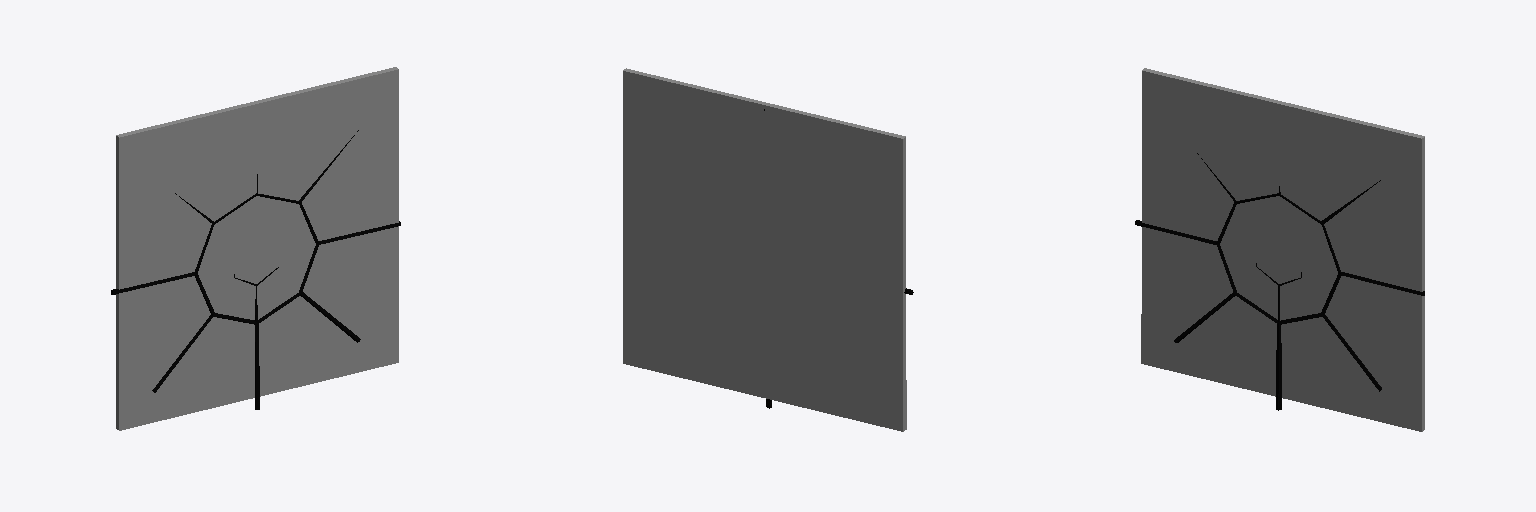
File: plattbrygga_3.obj
The picture shows the model from 3 angles: view 1: azimuth 30°, elevation 25°; view 2: azimuth 150°, elevation 25°; view 3: azimuth 330°, elevation 25°; orthographic projection.
Visible parts, largest first — view 1: Box001, Torus001; view 2: Box001; view 3: Box001, Torus001.
Part boxes in pixels (x1,y1,x2,y2): Box001: (116, 67, 398, 430); Torus001: (195, 193, 318, 324); Box001: (623, 68, 906, 431); Box001: (1141, 68, 1424, 431); Torus001: (1216, 193, 1341, 324).
Size of the model in its own units: 111 by 112 by 3.52.